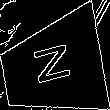N_W: (29, 43, 76, 93)
